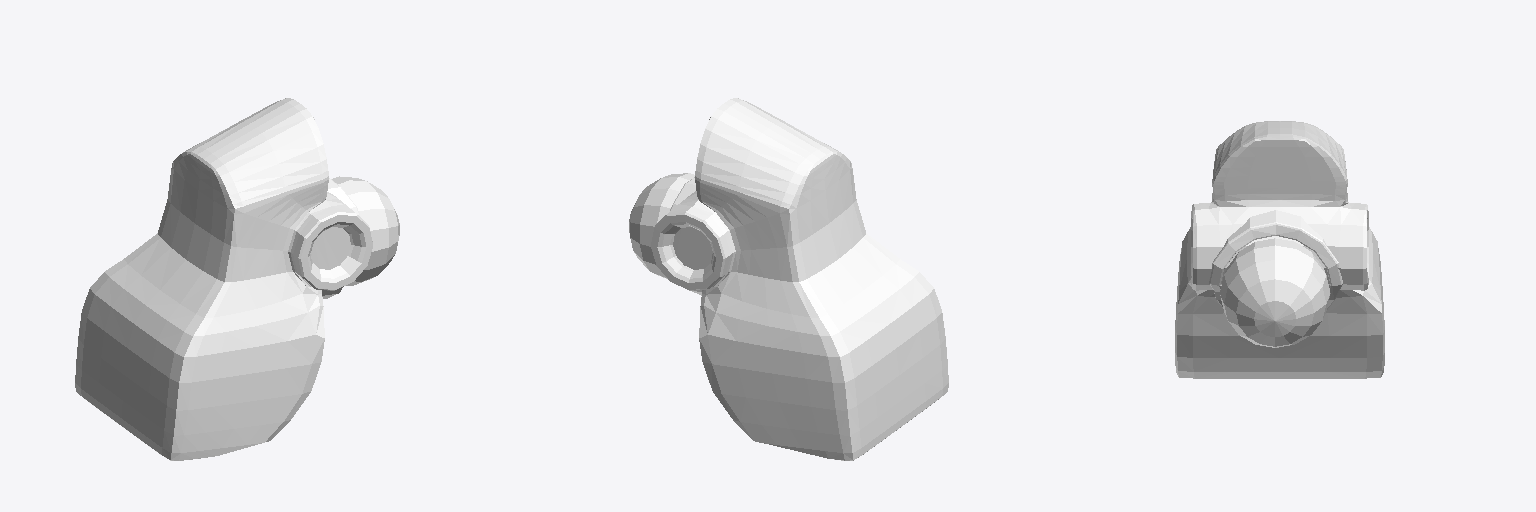
The model's file is Brazo_Izquierdo.obj.
The picture shows the model from 3 angles: view 1: azimuth 30°, elevation 25°; view 2: azimuth 150°, elevation 25°; view 3: azimuth 270°, elevation 25°; orthographic projection.
Parts seen in each view (by area): view 1: rig_test.002; view 2: rig_test.002; view 3: rig_test.002.
Part boxes in pixels (bbox=[...]): rig_test.002: bbox=[75, 98, 399, 460]; rig_test.002: bbox=[629, 98, 948, 460]; rig_test.002: bbox=[1175, 121, 1384, 378].
Size of the model in its own units: 39.37 by 39.59 by 26.65.